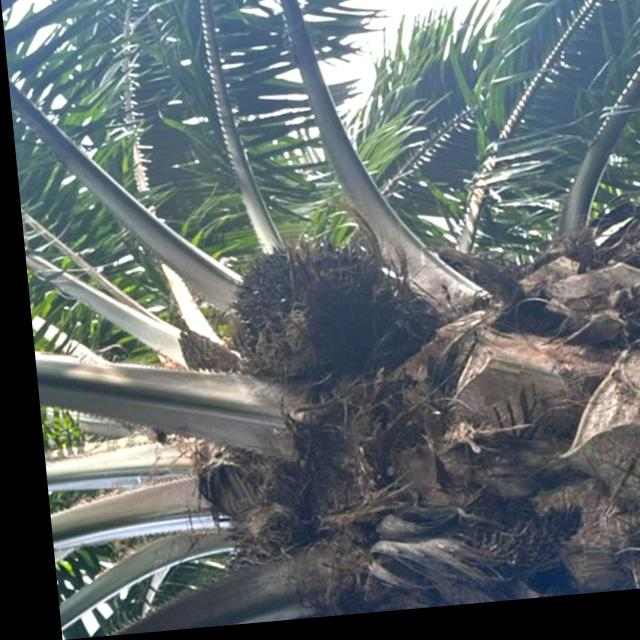unripe: (210, 230, 395, 407)
